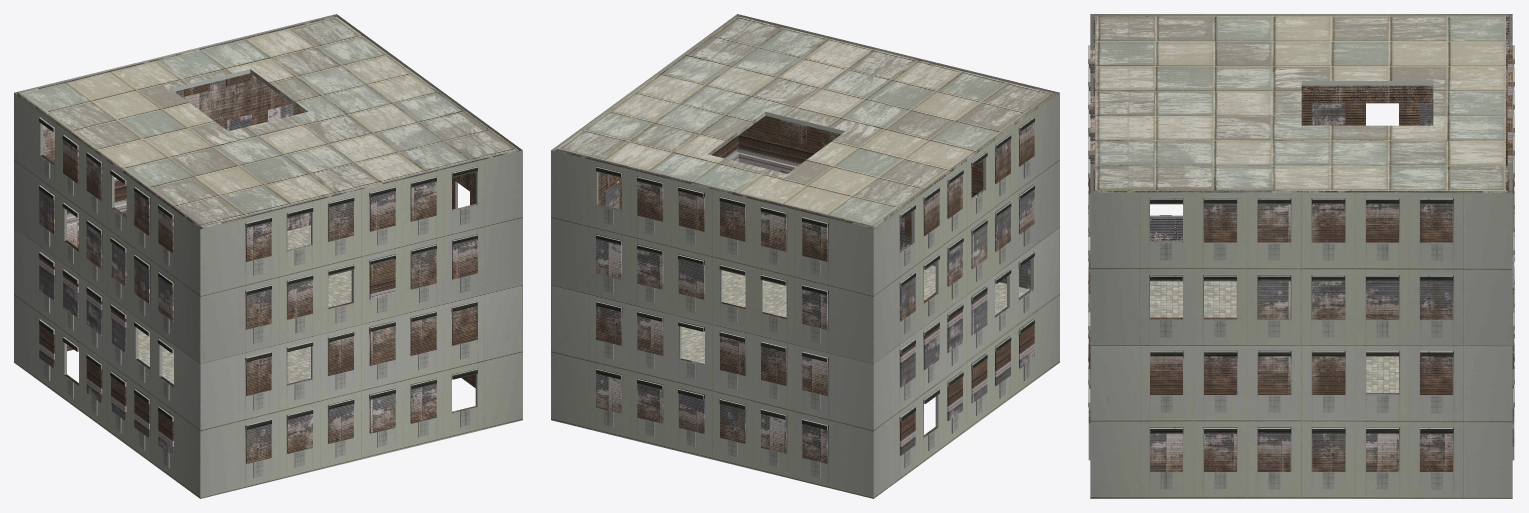
File: BagSS03mid_300.fbx
The picture shows the model from 3 angles, left to right: view 1: azimuth 30°, elevation 25°; view 2: azimuth 150°, elevation 25°; view 3: azimuth 270°, elevation 25°; orthographic projection. The views are drawn at different scales.
Visible parts, largest first — view 1: midMain300, midFloors300, midWindows300, midinterior300, midCeiling300; view 2: midMain300, midFloors300, midWindows300, midinterior300; view 3: midMain300, midFloors300, midWindows300, midinterior300, midCeiling300.
Part boxes in pixels (bbox=[...]): midMain300: bbox=[14, 14, 522, 498]; midFloors300: bbox=[20, 17, 517, 384]; midWindows300: bbox=[39, 73, 477, 463]; midinterior300: bbox=[18, 15, 518, 413]; midCeiling300: bbox=[170, 69, 517, 226]; midMain300: bbox=[551, 14, 1059, 498]; midFloors300: bbox=[557, 16, 1054, 363]; midWindows300: bbox=[596, 119, 1034, 463]; midinterior300: bbox=[555, 16, 1056, 437]; midMain300: bbox=[1088, 14, 1514, 498]; midFloors300: bbox=[1095, 15, 1505, 392]; midWindows300: bbox=[1088, 50, 1514, 471]; midinterior300: bbox=[1090, 15, 1512, 394]; midCeiling300: bbox=[1095, 81, 1433, 192].
Bounding box in the file's own units: 20.7 × 16.4 × 20.7.
